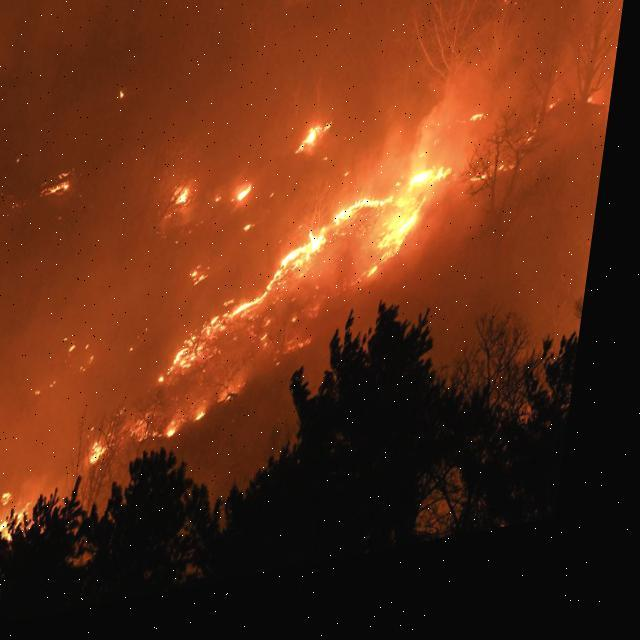Fire: (0, 0, 627, 439), (172, 146, 467, 390), (0, 322, 114, 448), (86, 385, 226, 472), (0, 478, 65, 549), (287, 109, 352, 173), (222, 174, 274, 225), (162, 178, 207, 230), (32, 164, 82, 206)
